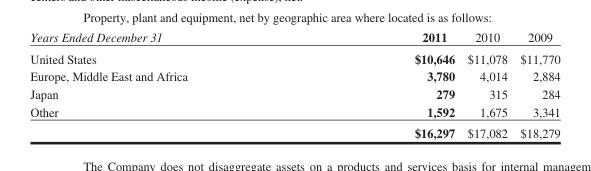table: (29, 29, 559, 139)
table column: (29, 29, 300, 139), (300, 29, 460, 139), (460, 29, 513, 139), (513, 29, 559, 139)
table column header: (29, 29, 559, 47)
table row: (29, 47, 559, 66), (29, 102, 559, 121), (29, 29, 559, 47), (29, 66, 559, 84), (29, 84, 559, 102), (29, 121, 559, 139)
